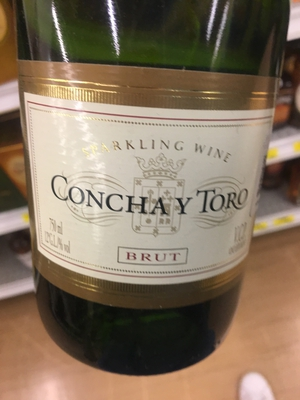brut: (17, 6, 290, 361)
